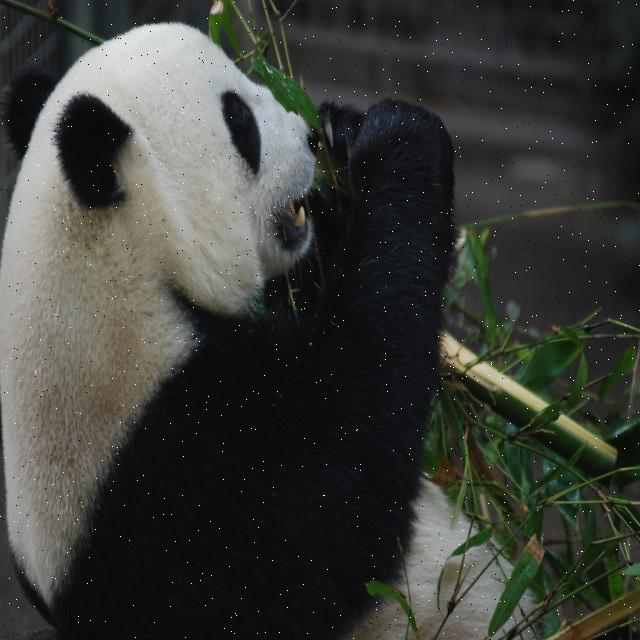panda: (0, 21, 555, 639)
